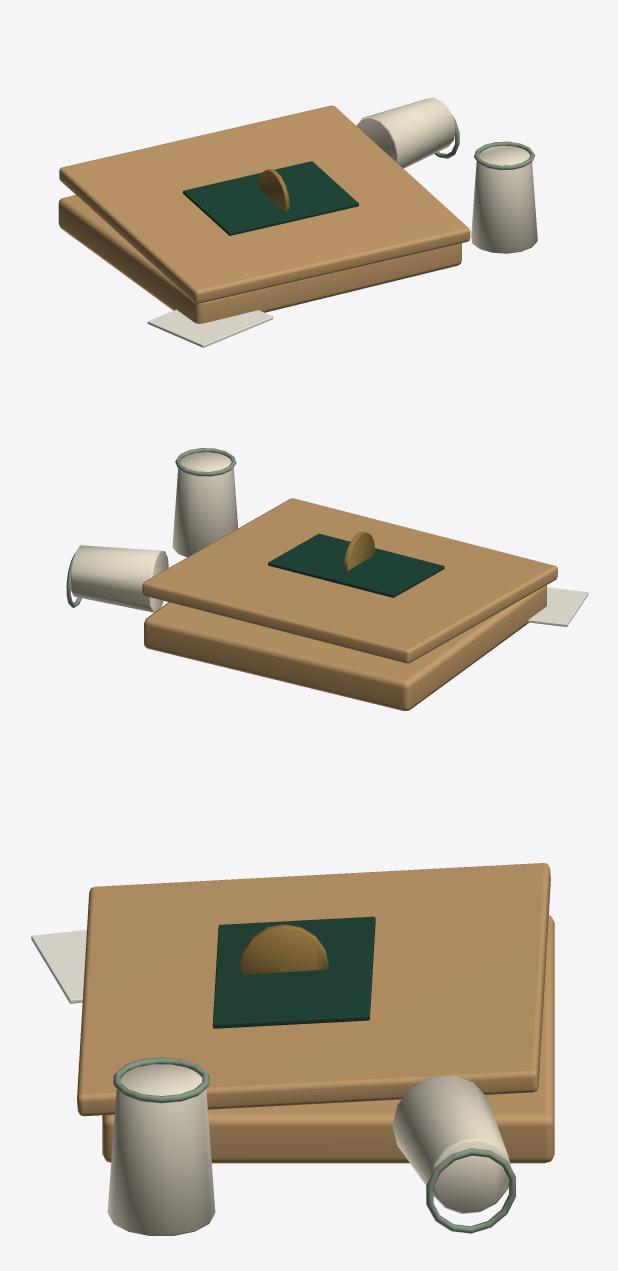
File: pine_hills_lounge_litter_v1.glb
3 views of the same model, one above another, from view 1: azimuth 30°, elevation 25°; view 2: azimuth 150°, elevation 25°; view 3: azimuth 270°, elevation 25° (orthographic). The views are drawn at different scales.
Visible parts, largest first — view 1: MESH_PizzaBoxLid, MESH_PizzaBoxBase, MESH_PizzaBoxLabel, MESH_EmptyCupUpright, MESH_EmptyCupTipped, MESH_LoungeNapkin, MESH_PizzaBoxLogo, MESH_EmptyCupUprightRim; view 2: MESH_PizzaBoxLid, MESH_PizzaBoxBase, MESH_PizzaBoxLabel, MESH_EmptyCupUpright, MESH_EmptyCupTipped, MESH_LoungeNapkin, MESH_PizzaBoxLogo, MESH_EmptyCupUprightRim; view 3: MESH_PizzaBoxLid, MESH_PizzaBoxBase, MESH_EmptyCupUpright, MESH_PizzaBoxLabel, MESH_EmptyCupTipped, MESH_PizzaBoxLogo, MESH_LoungeNapkin, MESH_EmptyCupTippedRim, MESH_EmptyCupUprightRim.
Part boxes in pixels (x1,y1,x2,y2): MESH_PizzaBoxLid: [59, 105, 470, 303]; MESH_PizzaBoxBase: [58, 195, 461, 323]; MESH_PizzaBoxLabel: [183, 161, 358, 235]; MESH_EmptyCupUpright: [471, 145, 537, 253]; MESH_EmptyCupTipped: [356, 97, 455, 168]; MESH_LoungeNapkin: [147, 309, 273, 347]; MESH_PizzaBoxLogo: [258, 169, 289, 211]; MESH_EmptyCupUprightRim: [474, 141, 534, 170]; MESH_PizzaBoxLid: [142, 498, 557, 663]; MESH_PizzaBoxBase: [144, 585, 546, 710]; MESH_PizzaBoxLabel: [268, 533, 444, 597]; MESH_EmptyCupUpright: [172, 452, 238, 557]; MESH_EmptyCupTipped: [70, 545, 168, 612]; MESH_LoungeNapkin: [528, 587, 588, 626]; MESH_PizzaBoxLogo: [343, 531, 374, 570]; MESH_EmptyCupUprightRim: [175, 448, 236, 476]; MESH_PizzaBoxLid: [77, 863, 550, 1116]; MESH_PizzaBoxBase: [102, 915, 554, 1163]; MESH_EmptyCupUpright: [107, 1064, 215, 1235]; MESH_PizzaBoxLabel: [212, 916, 375, 1028]; MESH_EmptyCupTipped: [392, 1075, 511, 1213]; MESH_PizzaBoxLogo: [240, 924, 328, 974]; MESH_LoungeNapkin: [31, 930, 86, 1003]; MESH_EmptyCupTippedRim: [426, 1148, 515, 1233]; MESH_EmptyCupUprightRim: [113, 1057, 209, 1103].
Bounding box in the file's own units: 0.7733 × 0.2 × 0.6.
